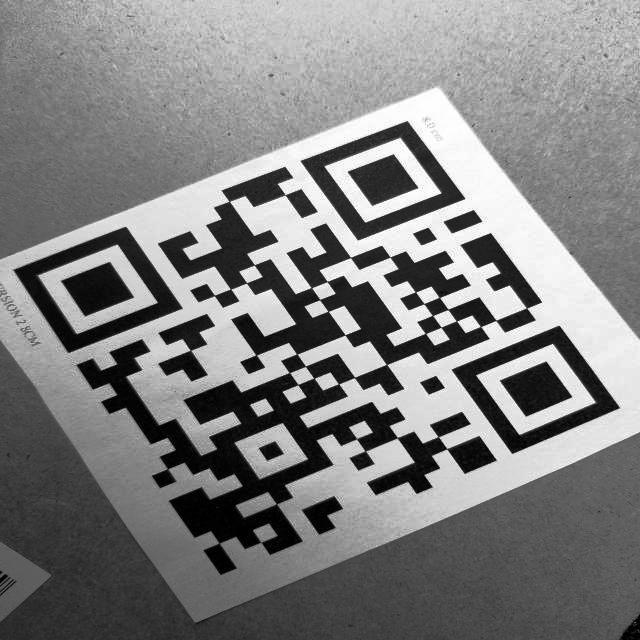qr_code: (8, 112, 635, 585)
